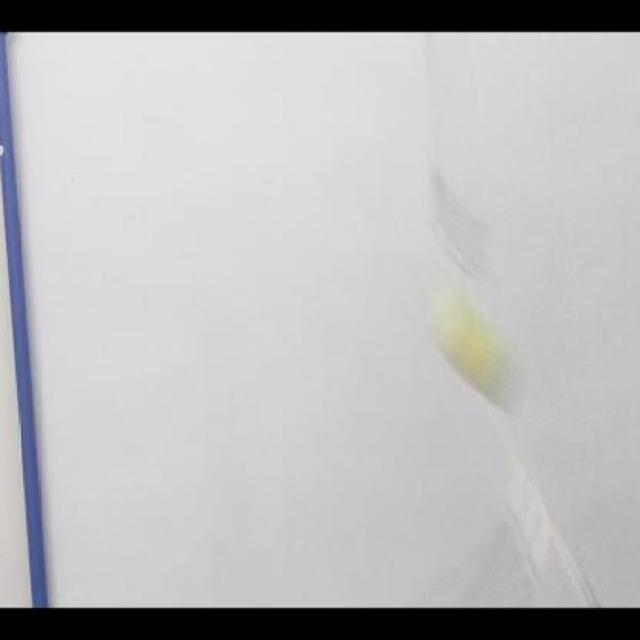baseball: (435, 295, 516, 410)
